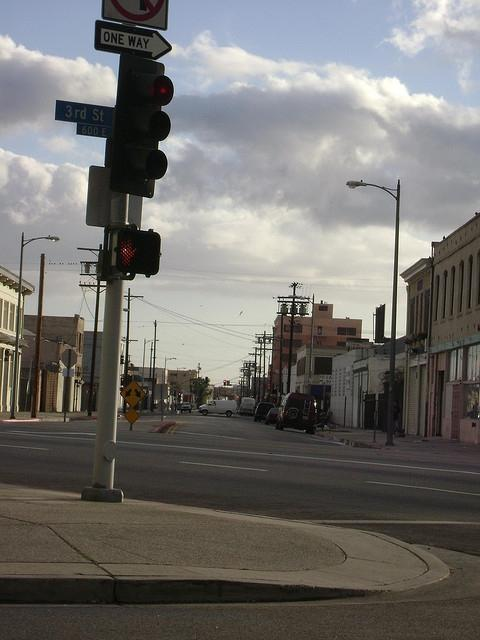car: (253, 402, 276, 422), (174, 400, 194, 414), (240, 398, 256, 413), (265, 408, 279, 424)
truck: (274, 392, 318, 434), (198, 398, 238, 416)
